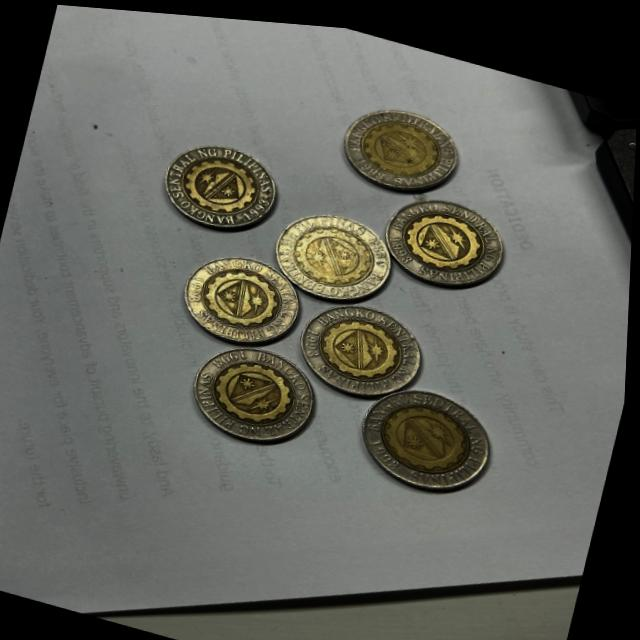10_Old_Back: (362, 374, 500, 491), (295, 286, 428, 398), (384, 180, 516, 292), (197, 332, 319, 445), (156, 129, 283, 237), (276, 201, 403, 305), (183, 241, 305, 346), (345, 96, 469, 197)
